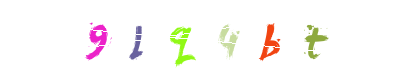4: (193, 0, 273, 80)
9: (57, 0, 137, 80)
B: (198, 0, 278, 80)
L: (97, 0, 177, 80)
Q: (164, 0, 244, 80)
T: (229, 0, 309, 80)
